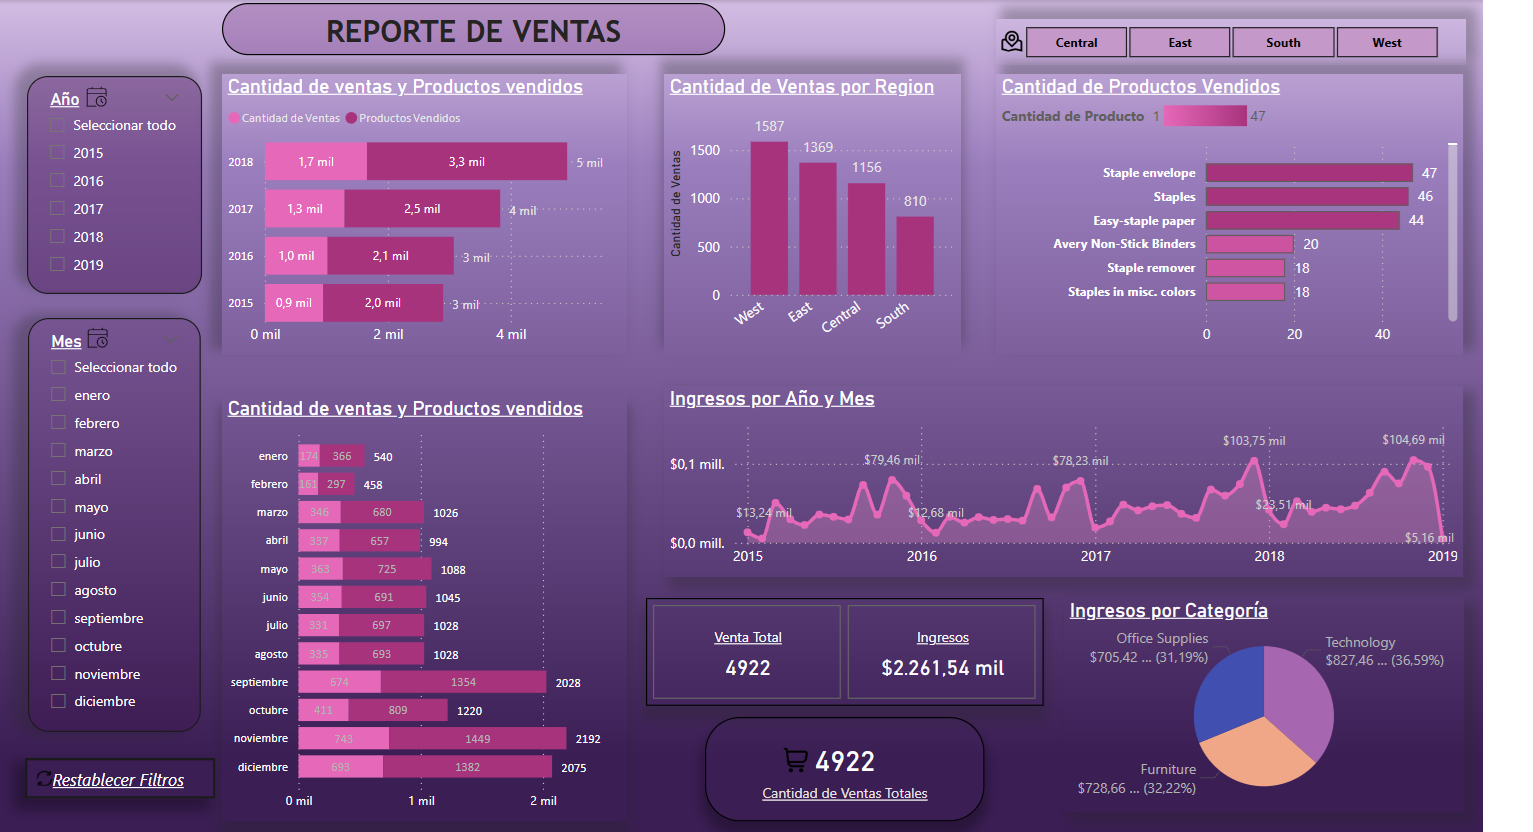

The page's visual inventory and layout, read from the dashboard file:
{"tool":"powerbi","page":{"name":"Página 1","canvas":[1280,720],"ordinal":0},"visuals":[{"type":"slicer","fields":{"Values":["Ventas de una cadena de tiendas.Region"]},"box":[859.3,16.1,404.9,40.4],"z":0,"group":"g1"},{"type":"clusteredColumnChart","fields":{"Category":["Ventas de una cadena de tiendas.Region"],"Y":["Ventas de una cadena de tiendas.Sales Amount"]},"box":[572.8,63.7,255.9,242.4],"z":0},{"type":"slicer","fields":{"Values":["Ventas de una cadena de tiendas.Ship Date.Variación.Jerarquía de fechas.Año"]},"box":[23.5,65.4,150.8,187.6],"z":1000,"group":"g1"},{"type":"clusteredBarChart","title":"Cantidad de Productos Vendidos","fields":{"Y":["CountNonNull(Ventas de una cadena de tiendas.Row ID)"],"Category":["Ventas de una cadena de tiendas.Product Name"]},"box":[859.2,63.7,403.1,242.4],"z":1000},{"type":"slicer","fields":{"Values":["Ventas de una cadena de tiendas.Ship Date.Variación.Jerarquía de fechas.Mes"]},"box":[23.7,273.7,149,357.3],"z":2000,"group":"g1"},{"type":"areaChart","fields":{"Category":["Ventas de una cadena de tiendas.Ship Date.Variación.Jerarquía de fechas.Año","Ventas de una cadena de tiendas.Ship Date.Variación.Jerarquía de fechas.Mes"],"Y":["Sum(Ventas de una cadena de tiendas.Sales)"]},"box":[572.8,333.1,689.5,165.2],"z":2000},{"type":"pieChart","fields":{"Category":["Ventas de una cadena de tiendas.Category"],"Y":["Sum(Ventas de una cadena de tiendas.Sales)"]},"box":[917.5,516.2,344.7,184.9],"z":3000},{"type":"barChart","title":"Cantidad de ventas y Productos vendidos","fields":{"Category":["Ventas de una cadena de tiendas.Order Date.Variación.Jerarquía de fechas.Año"],"Y":["Ventas de una cadena de tiendas.Sales Amount","CountNonNull(Ventas de una cadena de tiendas.Row ID)"]},"box":[191.2,63.7,349.2,242.4],"z":4000},{"type":"group","id":"g1","title":"Grupo 1","box":[21.5,16.1,1242.7,672.1],"z":5000},{"type":"cardVisual","fields":{"Data":["Ventas de una cadena de tiendas.Sales Amount","Sum(Ventas de una cadena de tiendas.Sales)"]},"box":[557.5,516.2,342.9,93.4],"z":6000},{"type":"card","fields":{"Values":["Ventas de una cadena de tiendas.Sales Amount"]},"box":[607.8,618.6,241.5,89.8],"z":7000},{"type":"actionButton","box":[21.5,653.2,164.3,35],"z":7001,"group":"g1"},{"type":"barChart","title":"Cantidad de ventas y Productos vendidos","fields":{"Y":["Ventas de una cadena de tiendas.Sales Amount","CountNonNull(Ventas de una cadena de tiendas.Row ID)"],"Category":["Ventas de una cadena de tiendas.Order Date.Variación.Jerarquía de fechas.Mes"]},"box":[191.2,341.1,349.2,367.2],"z":8000},{"type":"textbox","box":[191.2,3,433.6,44.9],"z":9000},{"type":"image","box":[855,21.5,35,27.8],"z":10000},{"type":"image","box":[71,278,27.8,26.9],"z":11000},{"type":"image","box":[70,70,27.8,26.9],"z":12000},{"type":"image","box":[670.6,640.1,30.5,30.5],"z":13000}]}

Visuals, with their boxes on the page's 1280x720 design canvas (x1, y1, x2, y2). These are canvas units, not pixel positions in the 1533x832 screenshot, which may show the page scaled, cropped or inside an application window:
slicer - Ventas de una cadena de tiendas.Region: [x1=859, y1=16, x2=1264, y2=56]
clusteredColumnChart - Ventas de una cadena de tiendas.Region x Ventas de una cadena de tiendas.Sales Amount: [x1=573, y1=64, x2=829, y2=306]
slicer - Ventas de una cadena de tiendas.Ship Date.Variación.Jerarquía de fechas.Año: [x1=24, y1=65, x2=174, y2=253]
"Cantidad de Productos Vendidos" clusteredBarChart: [x1=859, y1=64, x2=1262, y2=306]
slicer - Ventas de una cadena de tiendas.Ship Date.Variación.Jerarquía de fechas.Mes: [x1=24, y1=274, x2=173, y2=631]
areaChart - Ventas de una cadena de tiendas.Ship Date.Variación.Jerarquía de fechas.Año x Ventas de una cadena de tiendas.Ship Date.Variación.Jerarquía de fechas.Mes: [x1=573, y1=333, x2=1262, y2=498]
pieChart - Ventas de una cadena de tiendas.Category x Sum(Ventas de una cadena de tiendas.Sales): [x1=918, y1=516, x2=1262, y2=701]
"Cantidad de ventas y Productos vendidos" barChart: [x1=191, y1=64, x2=540, y2=306]
"Grupo 1" group: [x1=22, y1=16, x2=1264, y2=688]
cardVisual - Ventas de una cadena de tiendas.Sales Amount x Sum(Ventas de una cadena de tiendas.Sales): [x1=558, y1=516, x2=900, y2=610]
card - Ventas de una cadena de tiendas.Sales Amount: [x1=608, y1=619, x2=849, y2=708]
actionButton: [x1=22, y1=653, x2=186, y2=688]
"Cantidad de ventas y Productos vendidos" barChart: [x1=191, y1=341, x2=540, y2=708]
textbox: [x1=191, y1=3, x2=625, y2=48]
image: [x1=855, y1=22, x2=890, y2=49]
image: [x1=71, y1=278, x2=99, y2=305]
image: [x1=70, y1=70, x2=98, y2=97]
image: [x1=671, y1=640, x2=701, y2=671]
